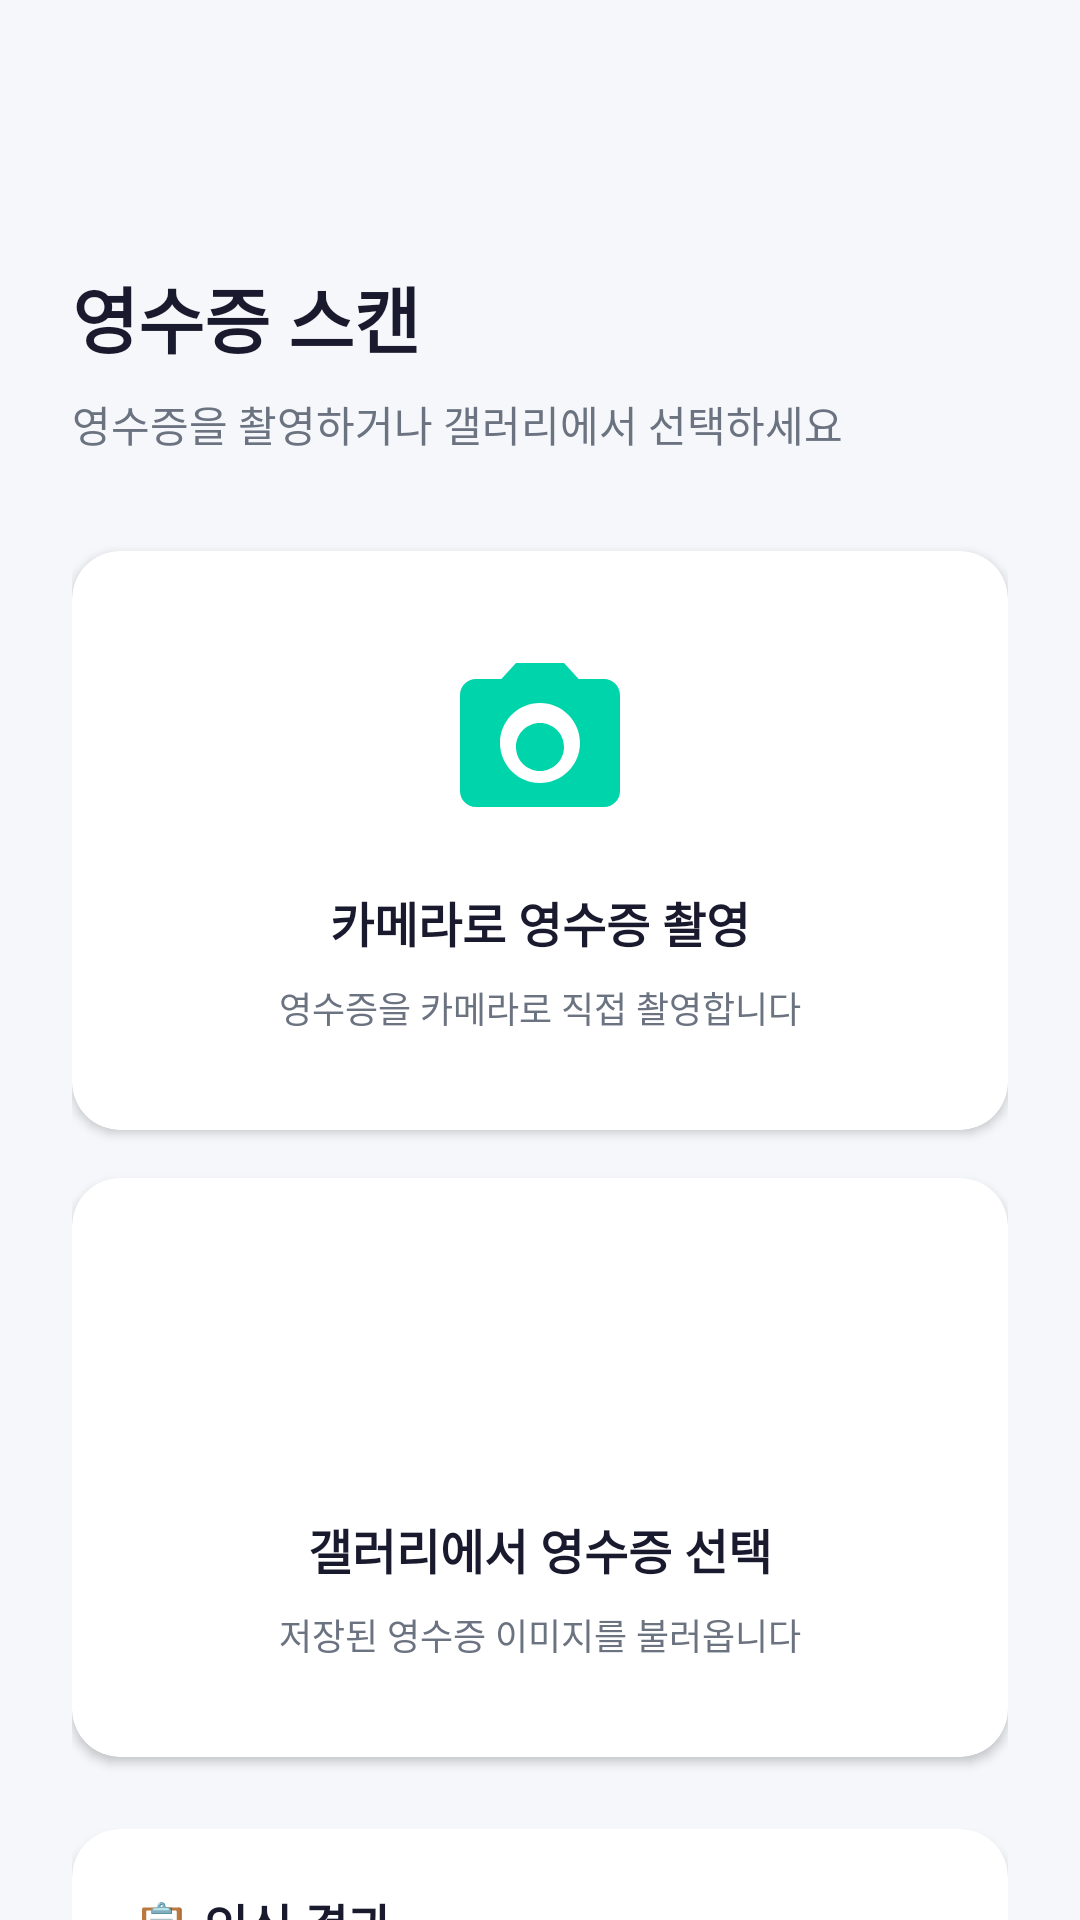

Icon click points for this 1080px×1920px phone screenshot, format [x,y]:
camera: [540,735]
